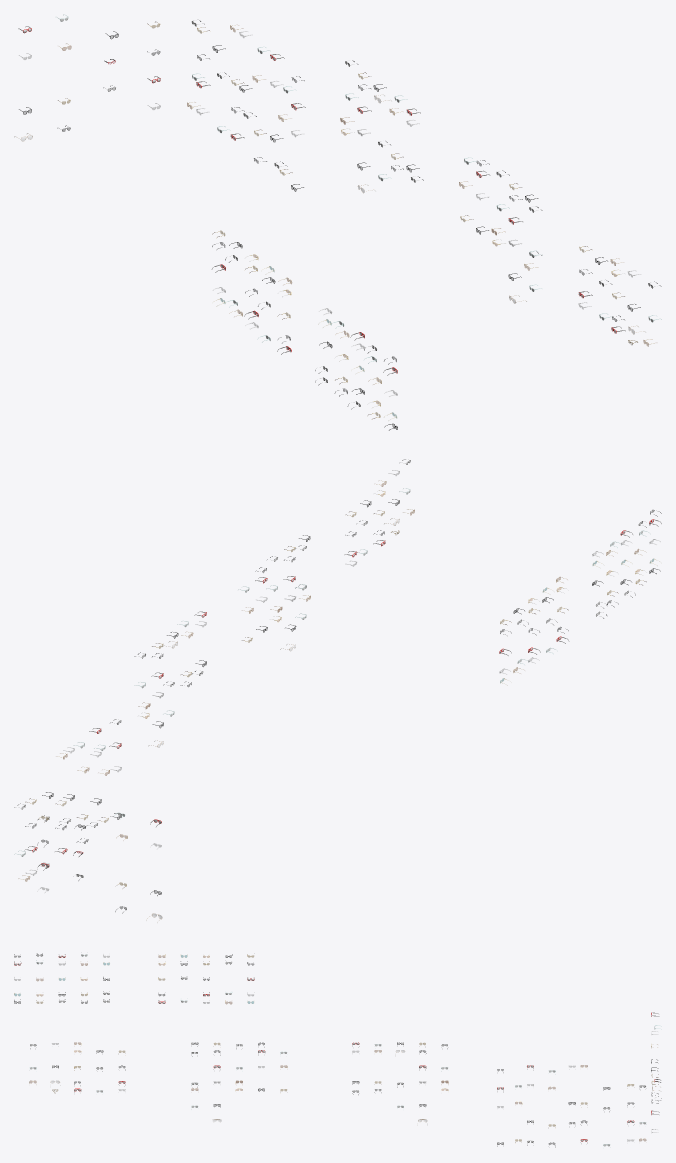
The model's file is product-library.glb.
The picture shows the model from 3 angles, top to bottom: view 1: azimuth 30°, elevation 25°; view 2: azimuth 150°, elevation 25°; view 3: azimuth 270°, elevation 25°; orthographic projection. The views are drawn at different scales.
Visible parts, largest first — view 1: OPTIK_PRODUCT_021_V10, OPTIK_PRODUCT_046_V05; view 2: no part large enough to name; view 3: OPTIK_PRODUCT_021_V10, OPTIK_PRODUCT_046_V05, OPTIK_PRODUCT_056_V08.
Boxes of the visible parts, x1=… form: OPTIK_PRODUCT_021_V10: x1=315, y1=308, x2=397, y2=430; OPTIK_PRODUCT_046_V05: x1=212, y1=230, x2=291, y2=354; OPTIK_PRODUCT_021_V10: x1=14, y1=953, x2=109, y2=1003; OPTIK_PRODUCT_046_V05: x1=158, y1=954, x2=254, y2=1004; OPTIK_PRODUCT_056_V08: x1=30, y1=1042, x2=125, y2=1093.
Size of the model in its own units: 4.92 by 2.53 by 14.06.
61 materials, 4 textured.
